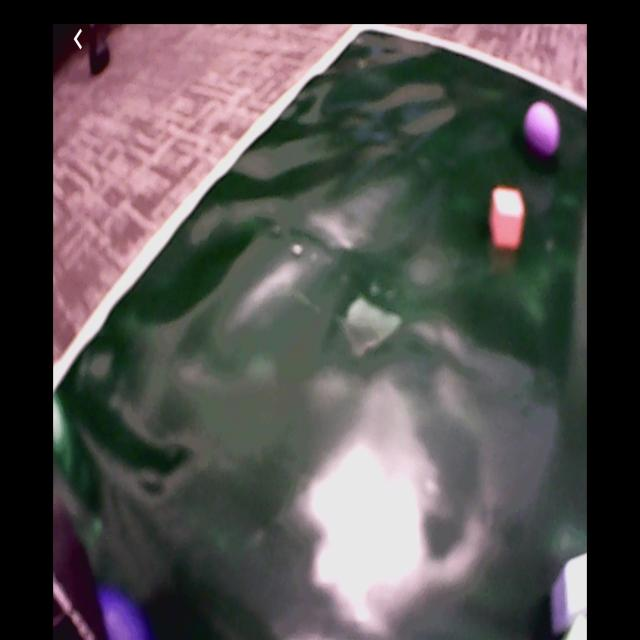ball: (100, 584, 147, 640), (524, 101, 560, 156)
